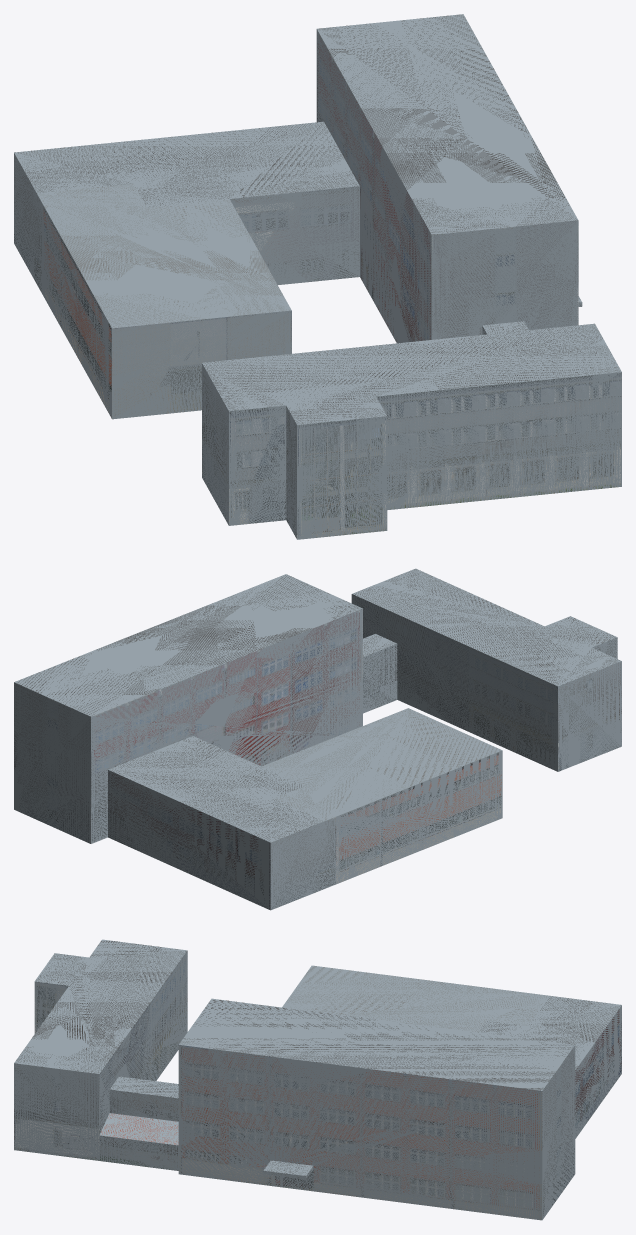
Rendered from EiA.fbx.
3 renders of one model, top to bottom at view 1: azimuth 30°, elevation 25°; view 2: azimuth 150°, elevation 25°; view 3: azimuth 270°, elevation 25°, orthographic. The views are drawn at different scales.
Visible parts, largest first — view 1: proj2_1; view 2: proj2_1; view 3: proj2_1.
Part boxes in pixels (box(x1,y1,x2,y2)): proj2_1: box(14, 14, 621, 539); proj2_1: box(14, 568, 621, 910); proj2_1: box(14, 939, 621, 1220).
Size of the model in its own units: 2313 by 719 by 3061.
